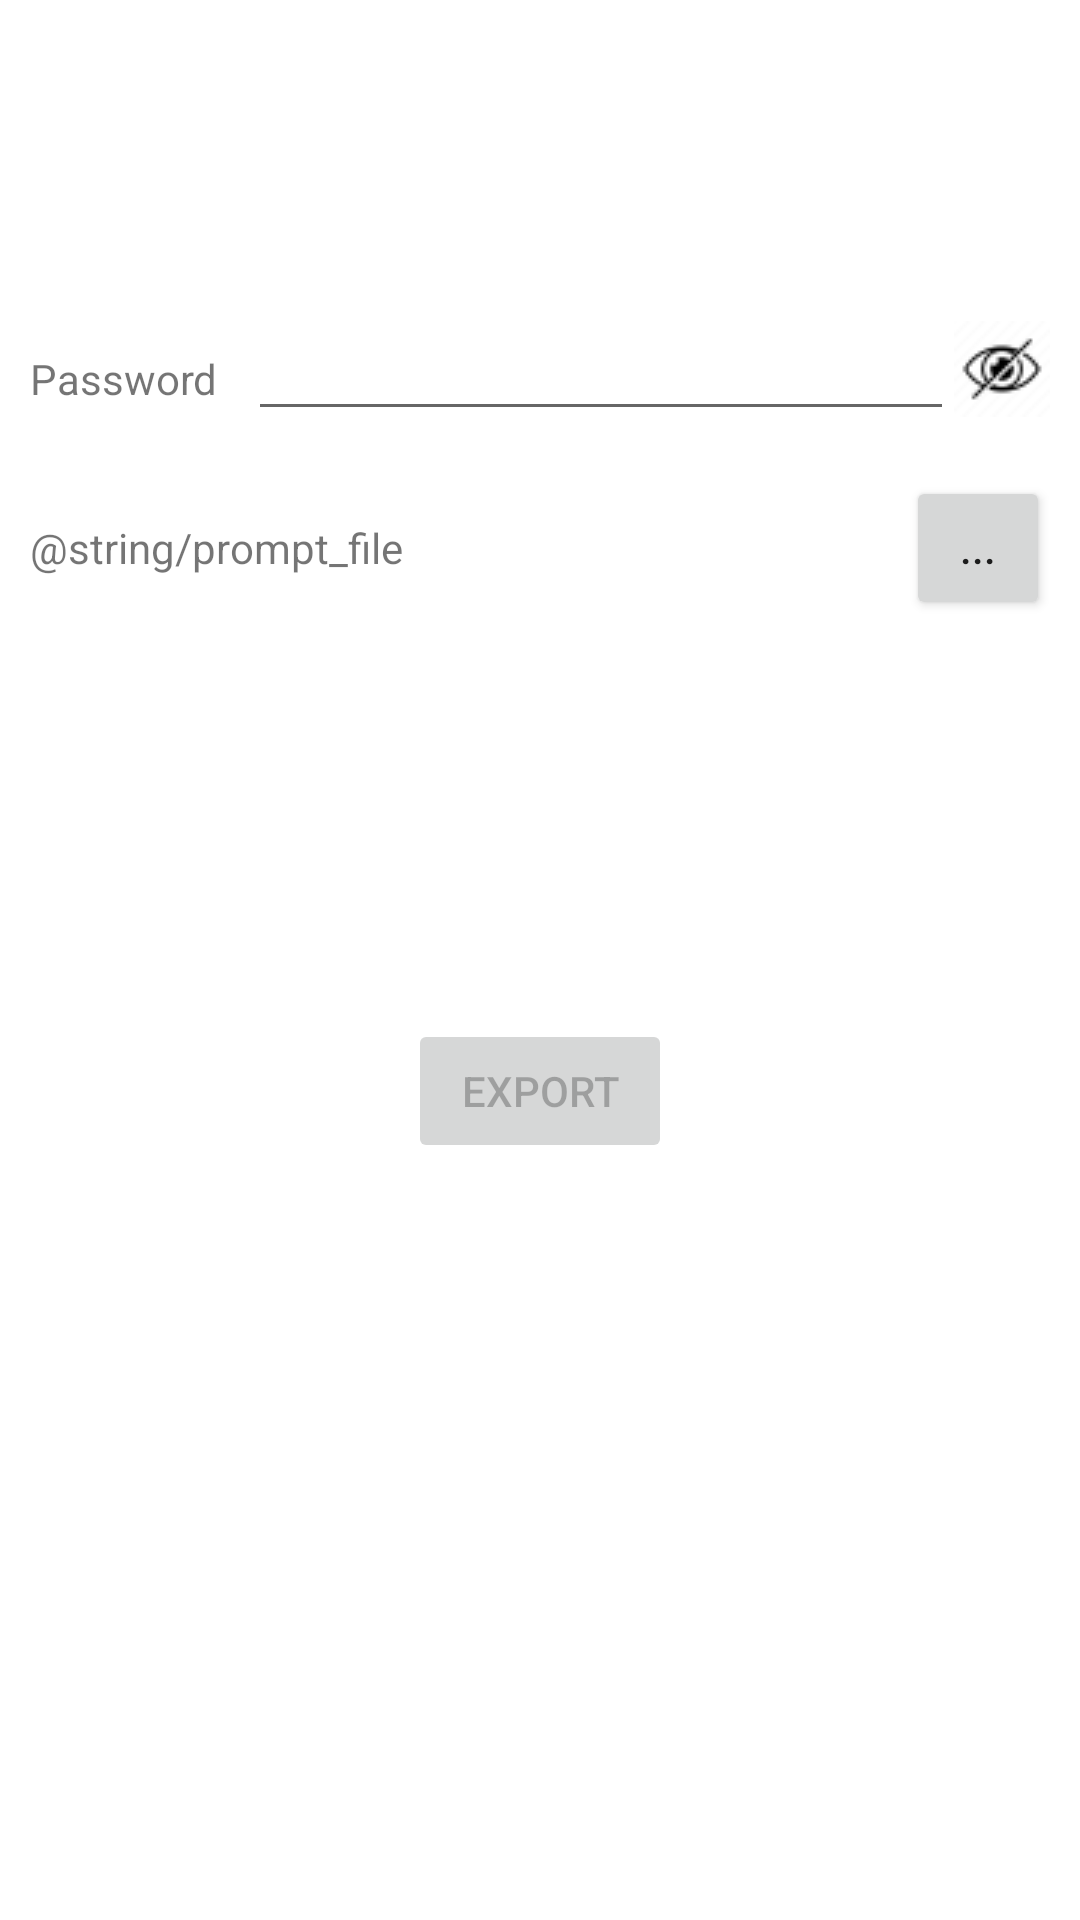

Point at icon controls on the screen. Image size 1080px×1920px, points as (x=x, y=y).
hide: (x=1002, y=369)
